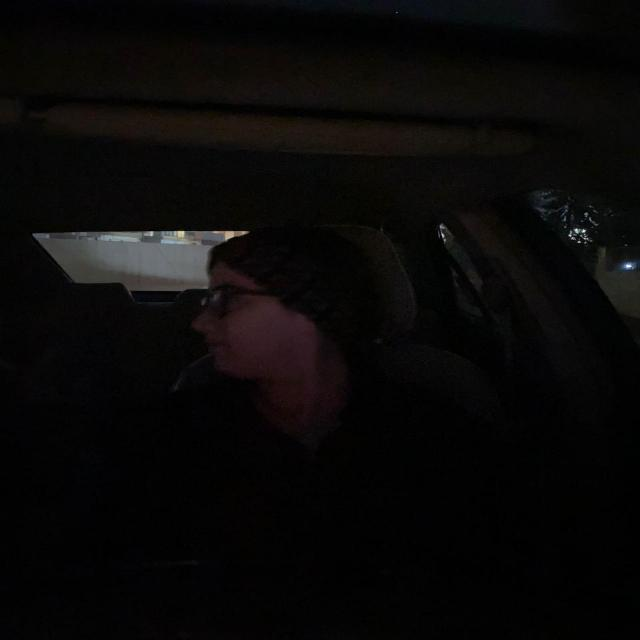LeftRight: (190, 225, 365, 395)
